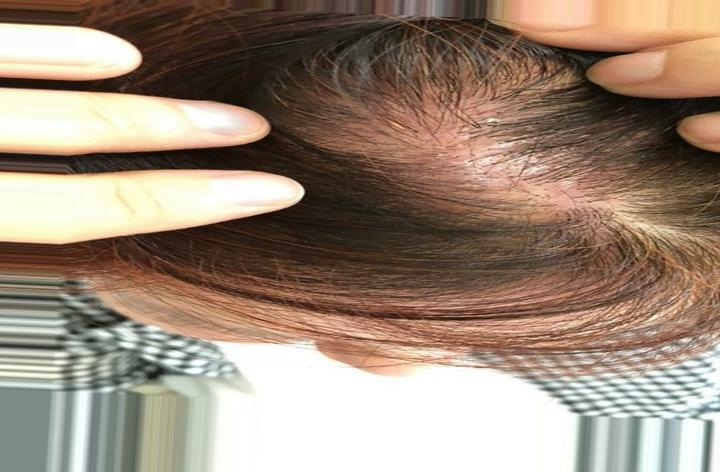Contact Dermatitis: (320, 59, 589, 223)
